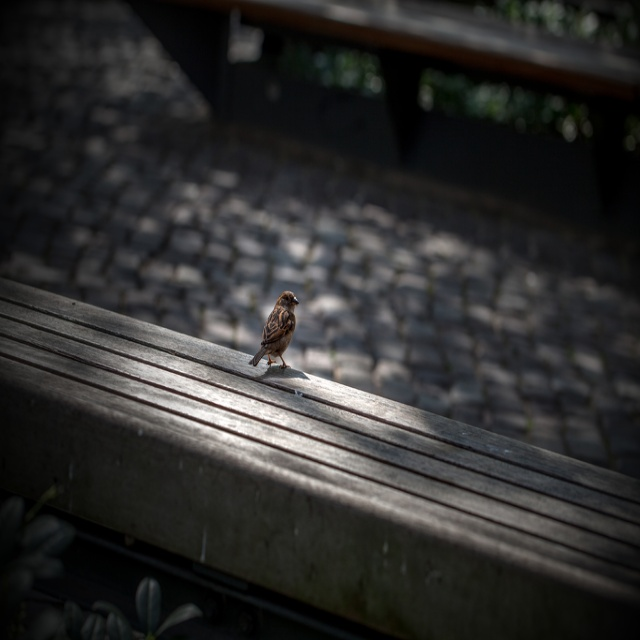Sparrow: (248, 291, 301, 369)
